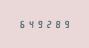eight: (54, 20, 62, 28)
four: (26, 20, 34, 28)
nine: (36, 20, 44, 28), (63, 20, 71, 28)
six: (17, 20, 25, 28)
two: (45, 20, 53, 28)
